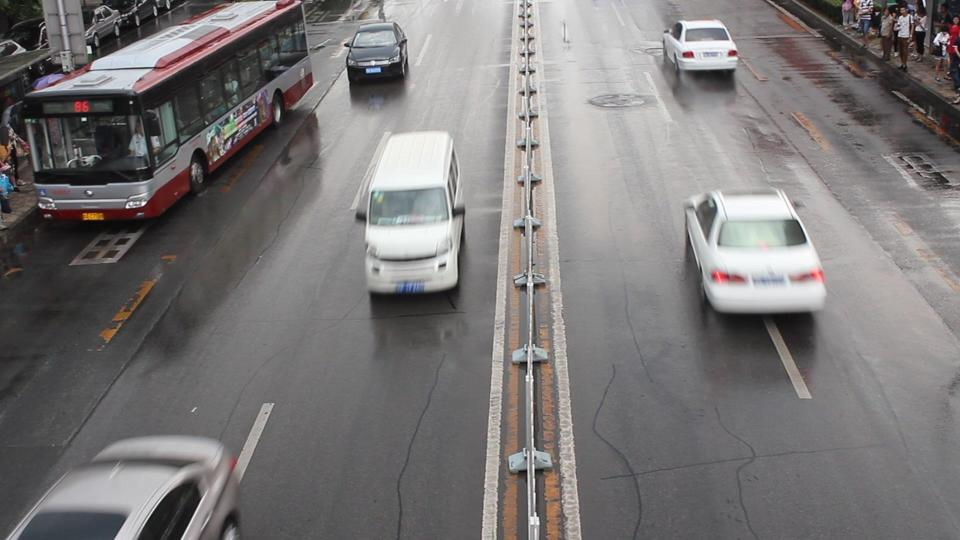Bus: (23, 1, 312, 220)
Car: (1, 436, 235, 540), (681, 189, 824, 315), (661, 18, 737, 74), (344, 22, 408, 80)
Minivan: (363, 133, 465, 295)
